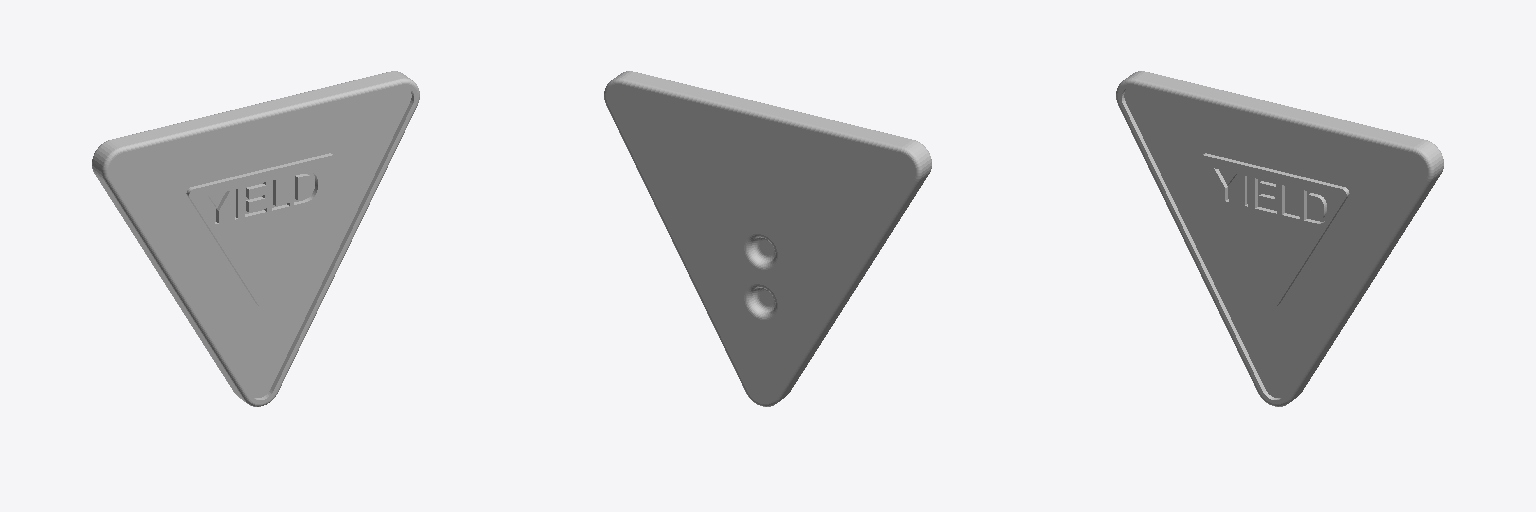
Rendered from Yield, Sign only.obj.
3 views of the same model, side by side, from view 1: azimuth 30°, elevation 25°; view 2: azimuth 150°, elevation 25°; view 3: azimuth 330°, elevation 25° (orthographic).
Parts seen in each view (by area): view 1: Body1; view 2: Body1; view 3: Body1.
Part boxes in pixels (x1,y1,x2,y2): Body1: (92,71,419,406); Body1: (604,71,931,406); Body1: (1116,71,1443,406).
Bounding box in the file's own units: 0.084 × 0.0741 × 0.0063.